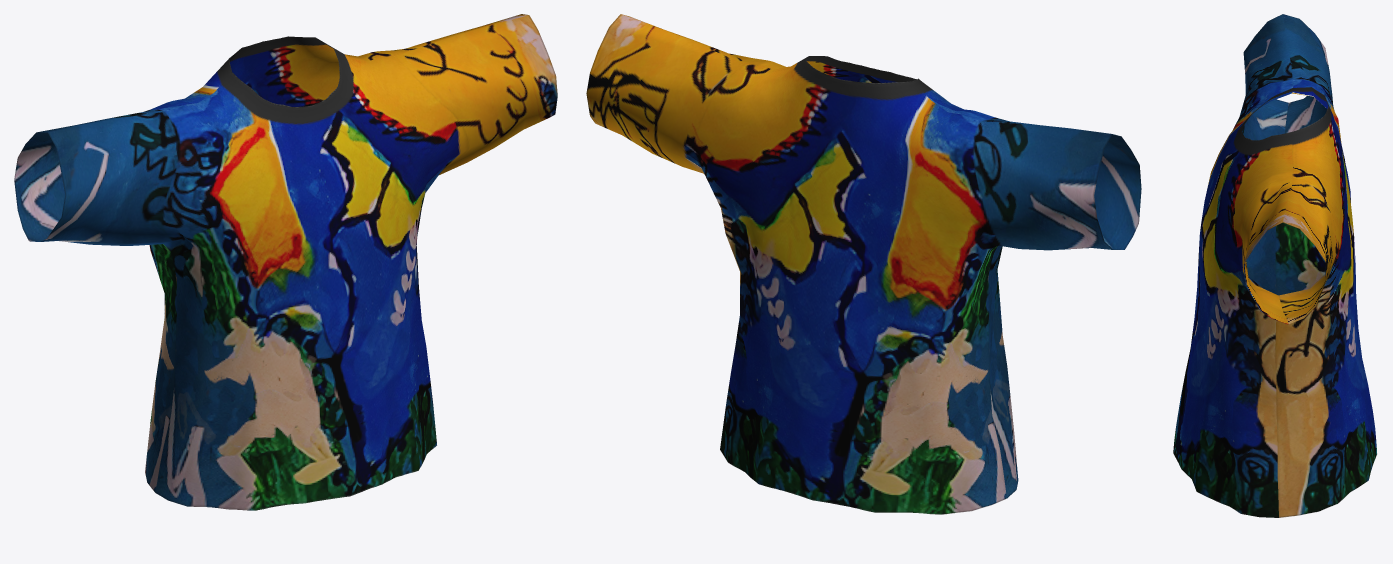
Rendered from 112_tshirt_t.glb.
3 renders of one model, left to right at view 1: azimuth 30°, elevation 25°; view 2: azimuth 150°, elevation 25°; view 3: azimuth 270°, elevation 25°, orthographic. The views are drawn at different scales.
Visible parts, largest first — view 1: tshirt_tpose; view 2: tshirt_tpose; view 3: tshirt_tpose.
Part boxes in pixels (x1,y1,x2,y2): tshirt_tpose: (14,14,557,510); tshirt_tpose: (586,14,1141,514); tshirt_tpose: (1173,14,1376,517).
Bounding box in the file's own units: 0.8467 × 0.704 × 0.3368.
1 material, 1 textured.
